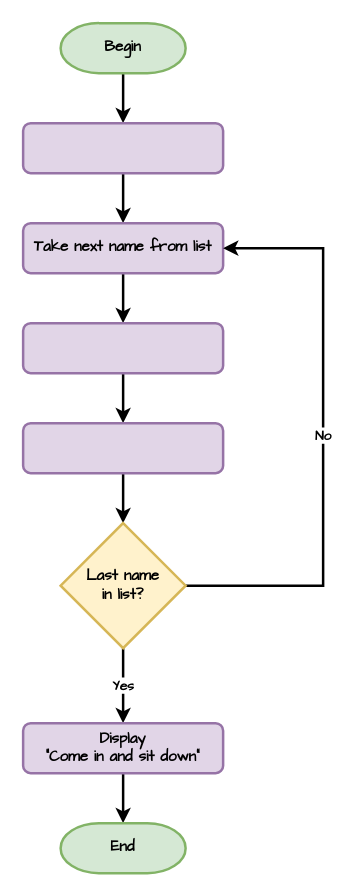
This 355x895 diagram has some shape labels left out. The centre of each missing label's shape, as x and y in pixels:
Create names list: (122,147)
Display "Hello" name: (122,347)
Display "How are you?": (122,447)
